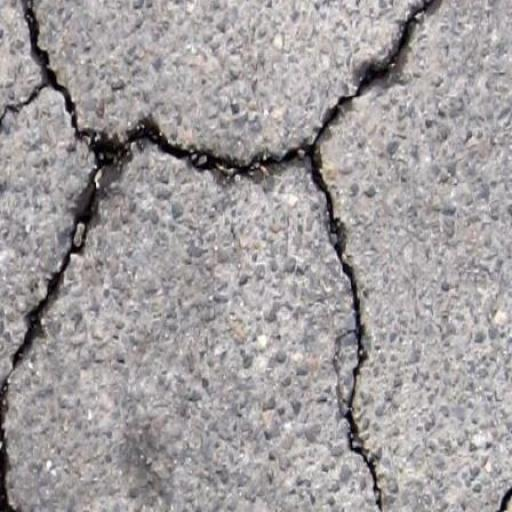spalling: (0, 0, 449, 507)
